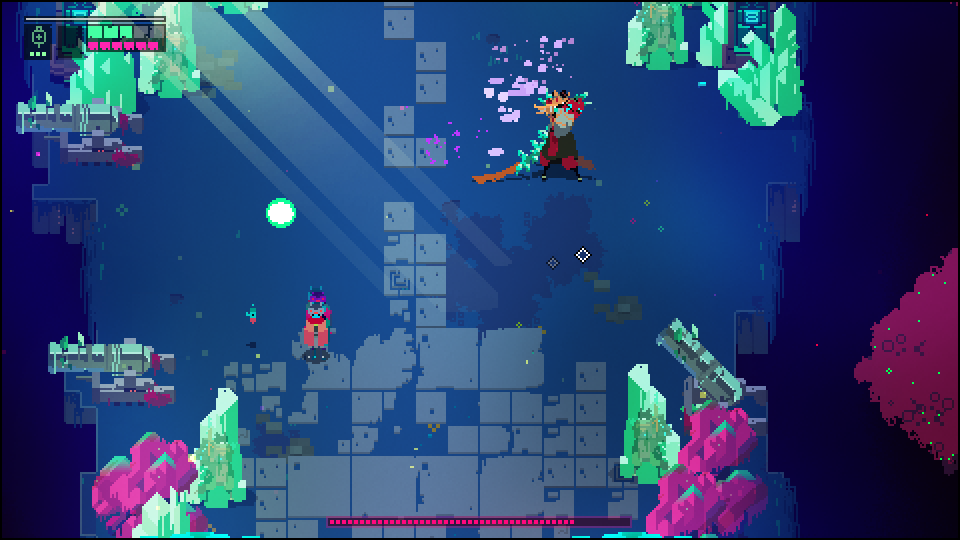hanged_man: (514, 84, 594, 187)
hanged_shot: (265, 195, 302, 235)
player: (303, 300, 333, 359)
